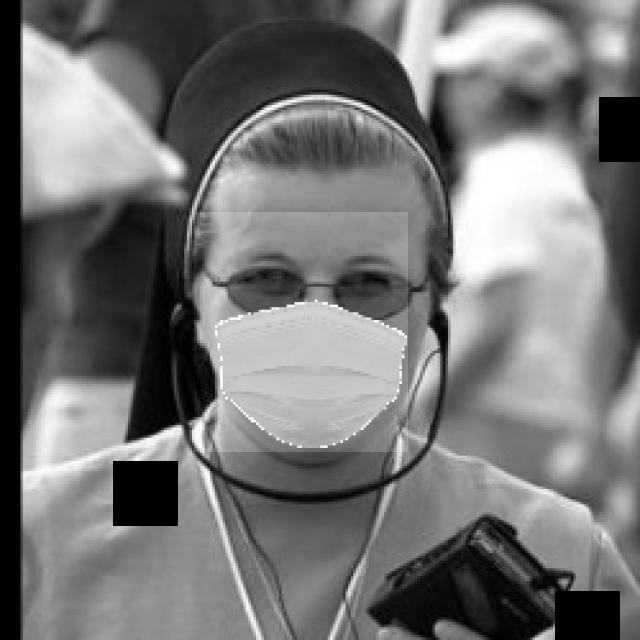surgical: (195, 213, 409, 453)
